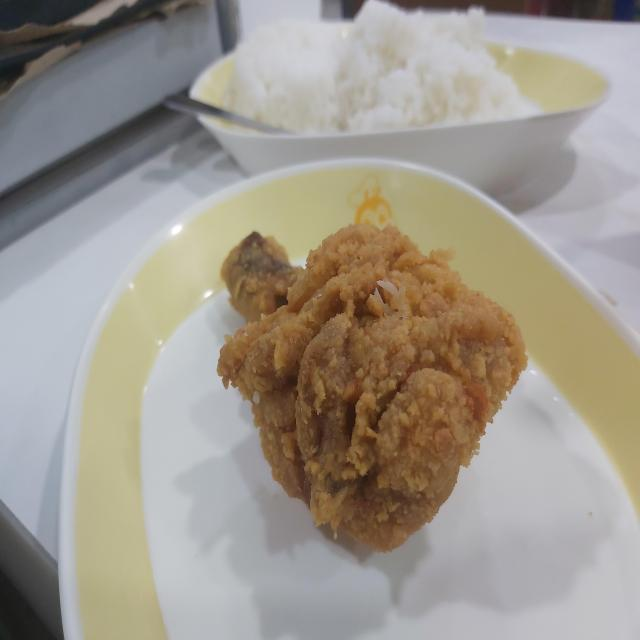Chicken -Fried Chicken-: (206, 200, 530, 600)
